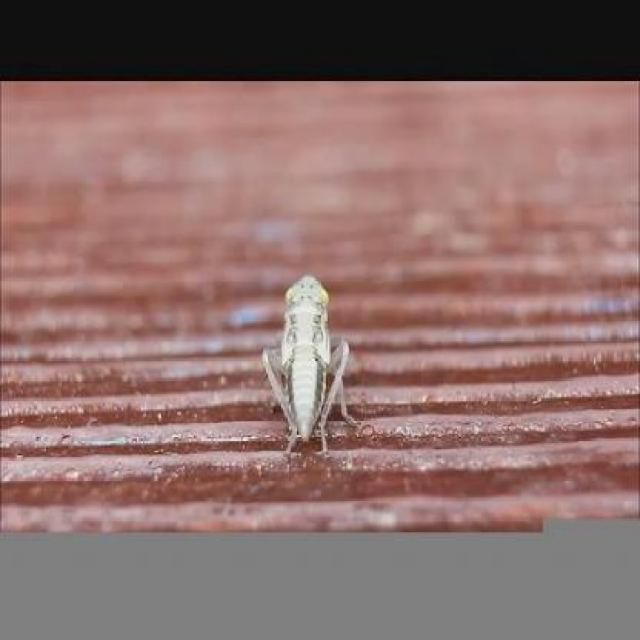green-leafhopper: (259, 271, 363, 460)
